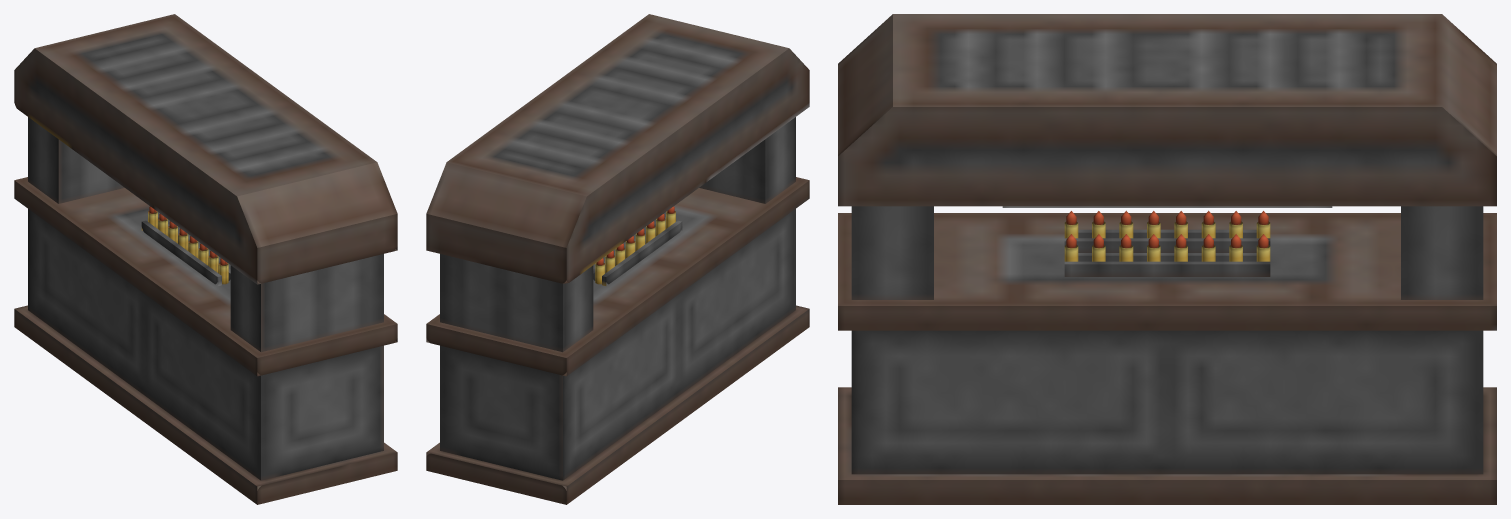
File: ammo_press.obj
3 renders of one model, left to right at view 1: azimuth 30°, elevation 25°; view 2: azimuth 150°, elevation 25°; view 3: azimuth 270°, elevation 25°, orthographic. The views are drawn at different scales.
Parts seen in each view (by area): view 1: Frame, Shells; view 2: Frame, Shells; view 3: Frame, Shells, Bullets.
Part boxes in pixels (bbox=[...]): Frame: bbox=[14, 14, 397, 504]; Shells: bbox=[110, 206, 230, 303]; Frame: bbox=[426, 14, 809, 504]; Shells: bbox=[593, 206, 713, 303]; Frame: bbox=[838, 14, 1496, 504]; Shells: bbox=[1002, 221, 1332, 282]; Bullets: bbox=[1066, 210, 1268, 248].
Bounding box in the file's own units: 1 × 2 × 3.
